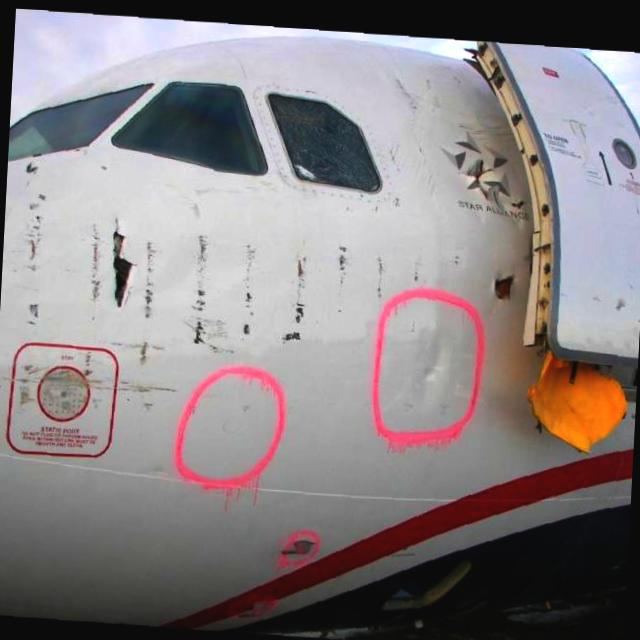crack: (100, 218, 142, 320), (488, 266, 520, 310)
dent: (408, 331, 458, 388)
